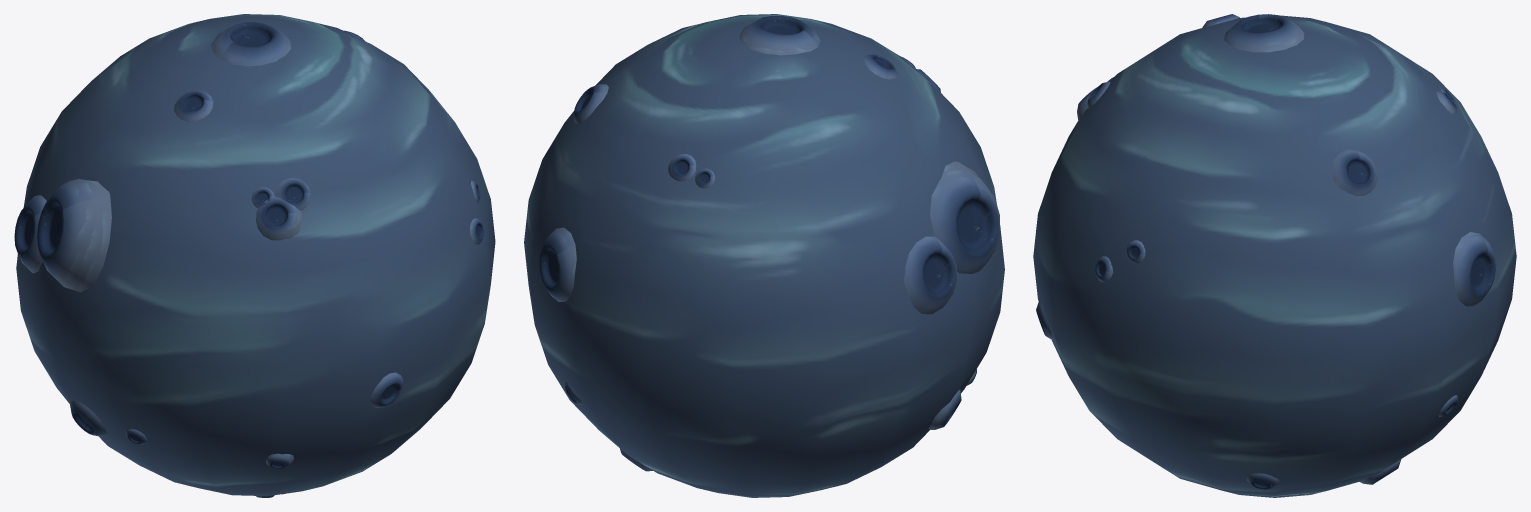
Rendered from Planet.fbx.
3 renders of one model, left to right at view 1: azimuth 30°, elevation 25°; view 2: azimuth 150°, elevation 25°; view 3: azimuth 270°, elevation 25°, orthographic.
Parts seen in each view (by area): view 1: Sphere, Sphere.002, Sphere.021, Sphere.001, Sphere.006, Sphere.003, Sphere.005, Sphere.007, Sphere.011; view 2: Sphere, Sphere.002, Sphere.001, Sphere.021, Sphere.019, Sphere.020, Sphere.022, Sphere.003; view 3: Sphere, Sphere.019, Sphere.021, Sphere.020.
Boxes of the visible parts, x1=… form: Sphere: x1=16, y1=14, x2=495, y2=496; Sphere.002: x1=37, y1=178, x2=111, y2=292; Sphere.021: x1=211, y1=22, x2=291, y2=66; Sphere.001: x1=14, y1=195, x2=46, y2=273; Sphere.006: x1=256, y1=196, x2=302, y2=240; Sphere.003: x1=174, y1=90, x2=213, y2=121; Sphere.005: x1=275, y1=177, x2=310, y2=210; Sphere.007: x1=370, y1=372, x2=402, y2=407; Sphere.011: x1=70, y1=400, x2=107, y2=436; Sphere: x1=524, y1=14, x2=1004, y2=497; Sphere.002: x1=930, y1=161, x2=999, y2=273; Sphere.001: x1=904, y1=236, x2=956, y2=314; Sphere.021: x1=739, y1=16, x2=820, y2=55; Sphere.019: x1=539, y1=227, x2=576, y2=301; Sphere.020: x1=574, y1=84, x2=608, y2=123; Sphere.022: x1=668, y1=154, x2=696, y2=181; Sphere.003: x1=863, y1=54, x2=897, y2=79; Sphere: x1=1033, y1=15, x2=1516, y2=497; Sphere.019: x1=1453, y1=232, x2=1495, y2=306; Sphere.021: x1=1224, y1=14, x2=1304, y2=52; Sphere.020: x1=1332, y1=149, x2=1377, y2=195.
Bounding box in the file's own units: 2040 × 2052 × 2000.
Materials: 2 (2 with a texture image).
